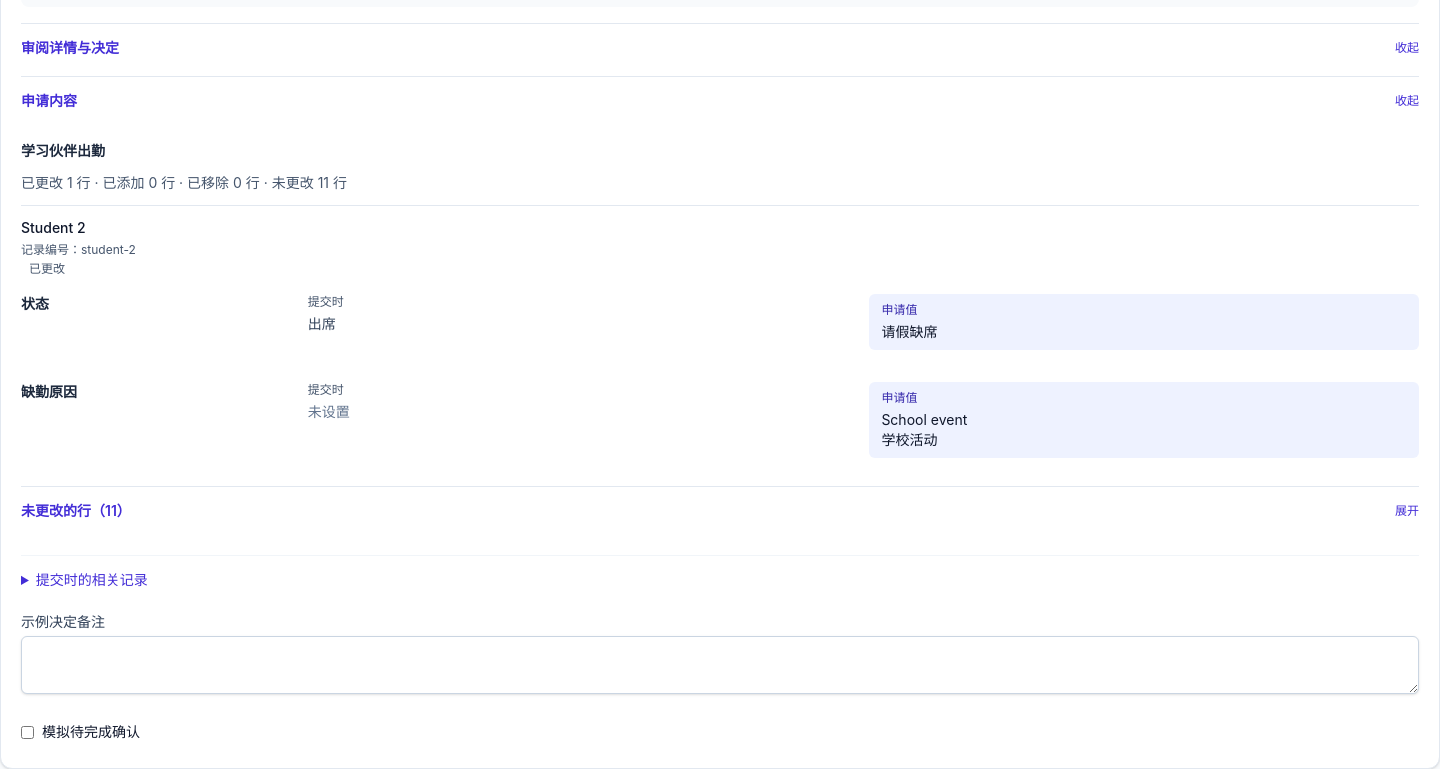
Test: shows one changed attendance child and keeps the unchanged roster expandable (zh)
(page scrolled)
Click the button "未更改的行（11） 展开": (76,510) top-left (21, 495), bottom-right (1419, 527)
(page scrolled)
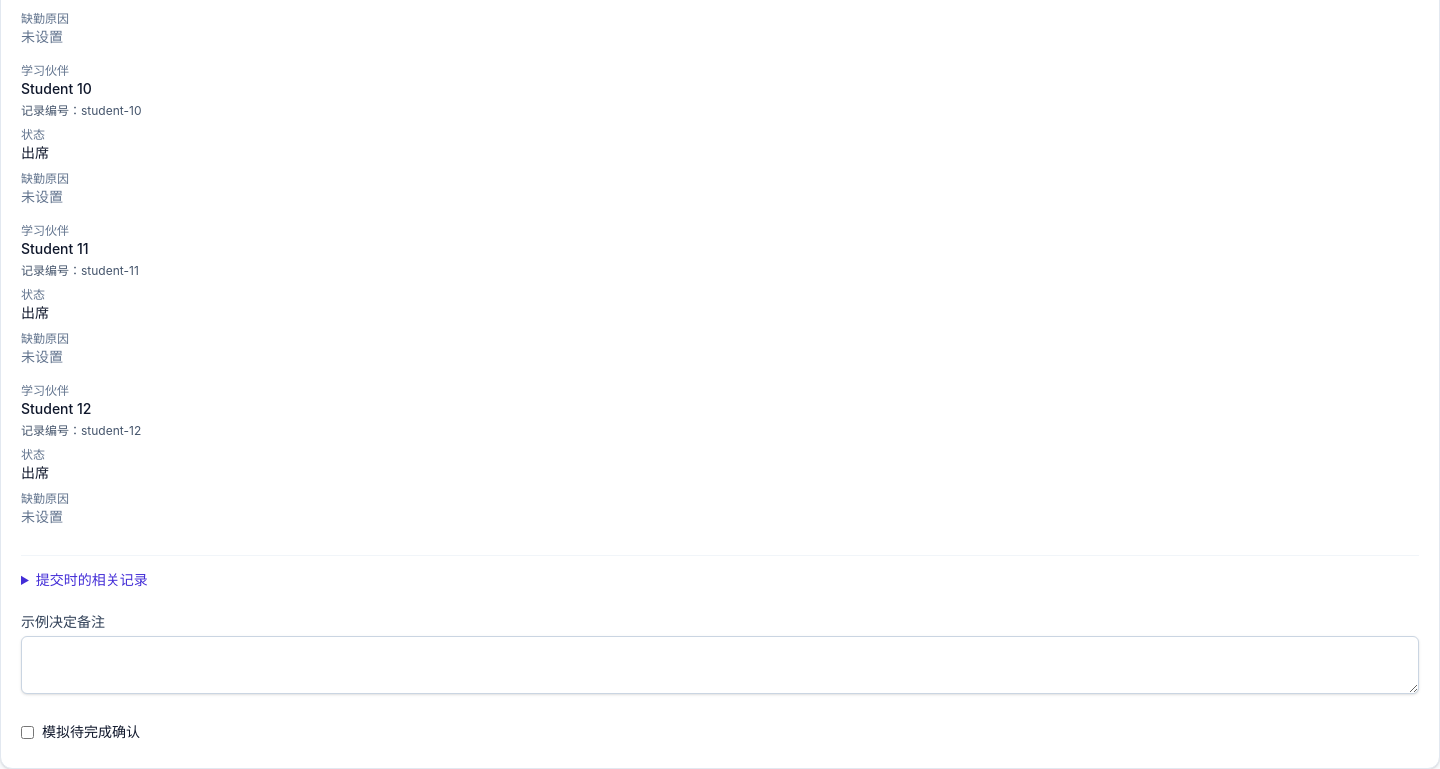
Check: the text "Student 12" is shown, box top-left (21, 400), bottom-right (92, 417)
